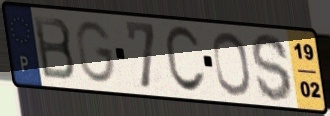7: (123, 18, 159, 93)
B: (31, 13, 78, 83)
C: (162, 24, 208, 96)
G: (74, 19, 117, 86)
O: (210, 30, 254, 98)
S: (249, 30, 295, 104)
